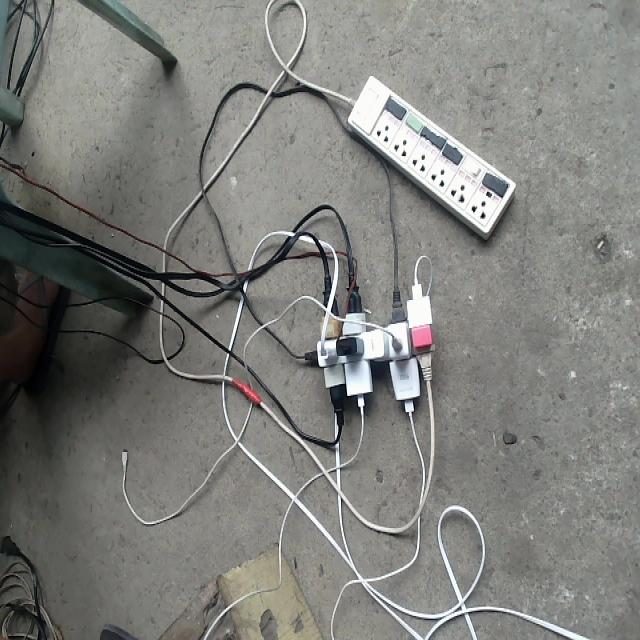-: (302, 259, 433, 424)
